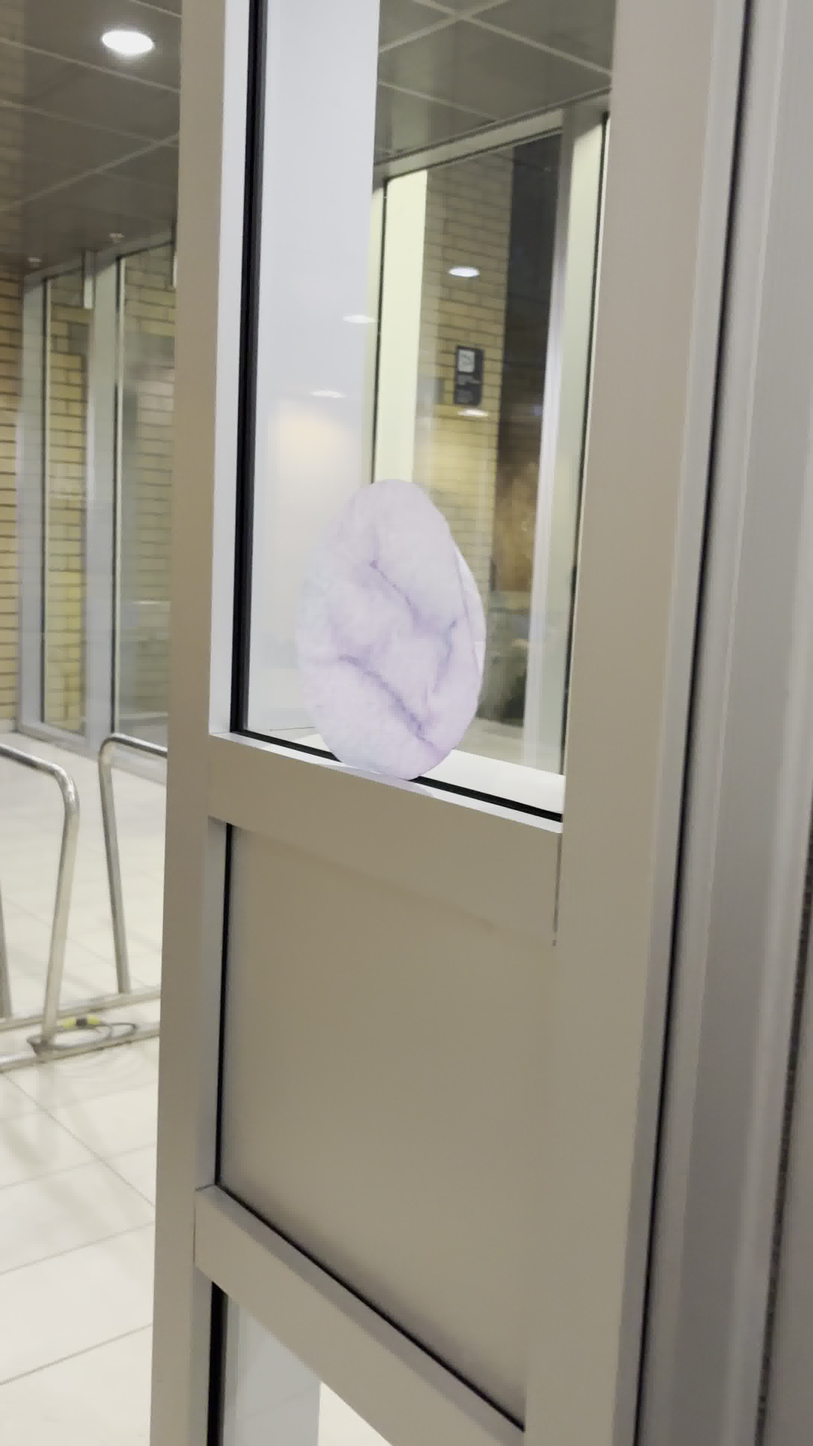Target: (287, 477, 492, 786)
